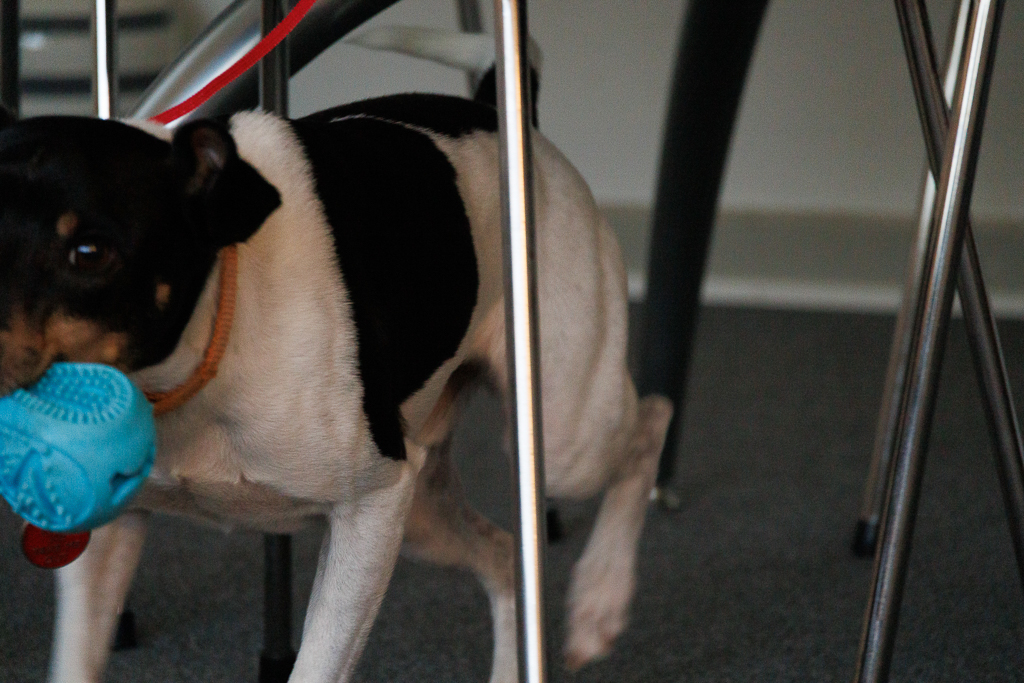Dog: (0, 18, 682, 682)
